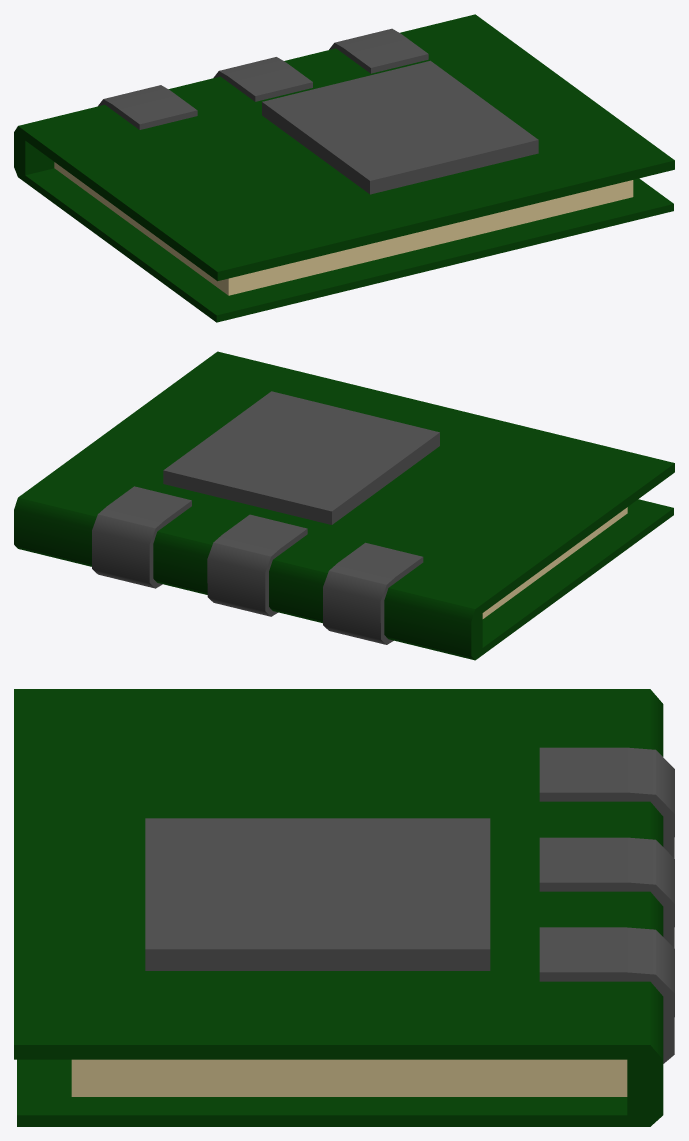
File: other_closed_book.fbx
3 views of the same model, one above another, from view 1: azimuth 30°, elevation 25°; view 2: azimuth 150°, elevation 25°; view 3: azimuth 270°, elevation 25° (orthographic). The views are drawn at different scales.
Parts seen in each view (by area): view 1: pCube49, pCube54; view 2: pCube49, pCube54; view 3: pCube49, pCube54.
Part boxes in pixels (box(x1,y1,x2,y2)): pCube49: box(14, 14, 674, 322); pCube54: box(262, 60, 538, 194); pCube49: box(14, 351, 674, 660); pCube54: box(163, 391, 439, 524); pCube49: box(14, 689, 674, 1126); pCube54: box(145, 818, 490, 970).
Size of the model in its own units: 571 by 84.29 by 448.
